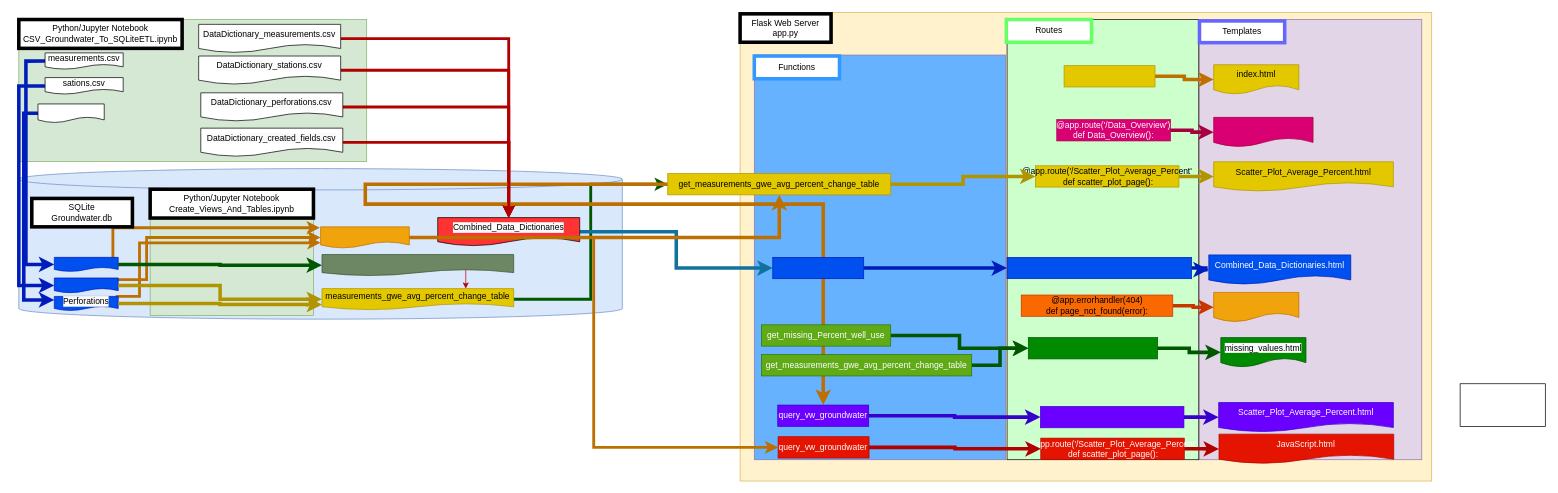
The diagram is 1558 pixels wide and 493 high, and some of its shapes have lost their labels. The shapes that lost their labels are listed below. From the top down, each one's centre as x and y in pixels, then its label:
At point (1109, 76): "@app.route('/') def index():".
At point (70, 113): "perforations .csv".
At point (1263, 132): "data_overview.html".
At point (364, 237): "vw_groundwater".
At point (86, 264): "Measurements".
At point (417, 265): "measurements_gwe_avg".
At point (818, 268): "data_dictionaries".
At point (1099, 268): "@app.route('/Combined_Data_Dictionaries') def combined_data_dictionaries():".
At point (86, 285): "Stations".
At point (1256, 307): "404.html".
At point (1093, 348): "@app.route('/missing_values def missing_values():".
At point (1112, 417): "@app.route('/JavaScript') def JavaScript():".
At point (1502, 404): "Change".
